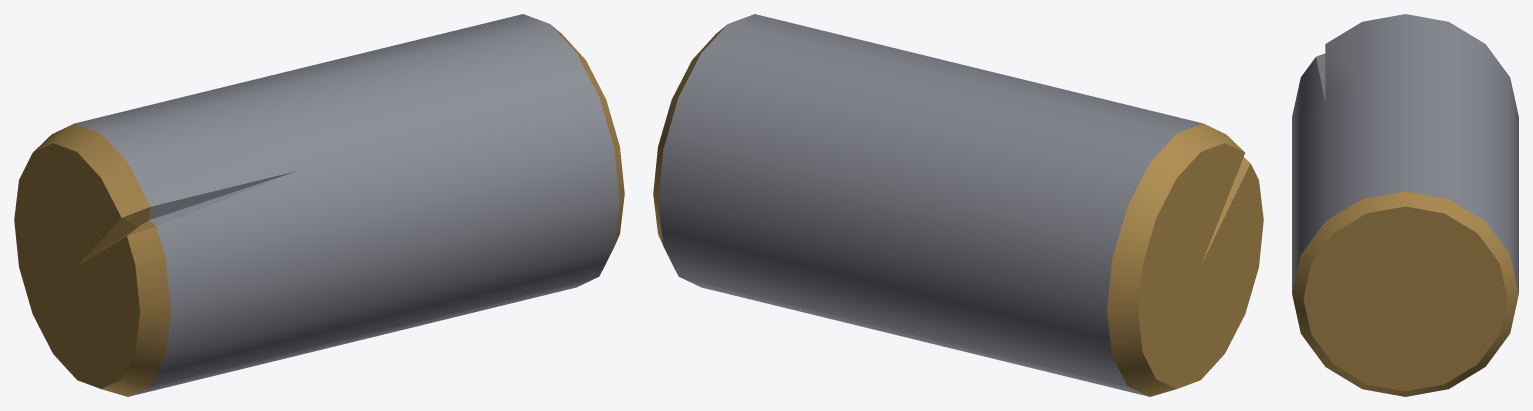
File: WoodTwo.fbx
3 renders of one model, left to right at view 1: azimuth 30°, elevation 25°; view 2: azimuth 150°, elevation 25°; view 3: azimuth 270°, elevation 25°, orthographic. The views are drawn at different scales.
Parts seen in each view (by area): view 1: WoodTwo; view 2: WoodTwo; view 3: WoodTwo.
Part boxes in pixels (x1=…): WoodTwo: x1=14, y1=14, x2=624, y2=396; WoodTwo: x1=653, y1=14, x2=1263, y2=396; WoodTwo: x1=1292, y1=14, x2=1518, y2=396.
Size of the model in its own units: 80 by 40 by 40.
